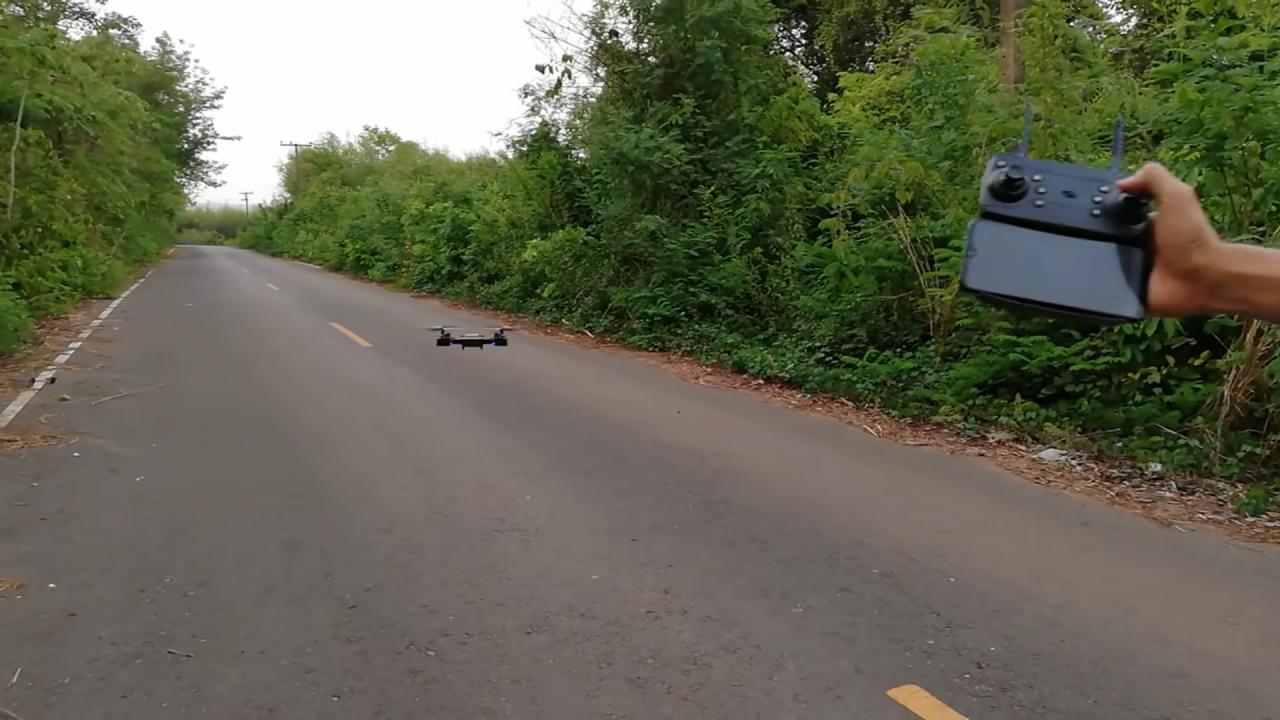Drone: (418, 318, 528, 360)
